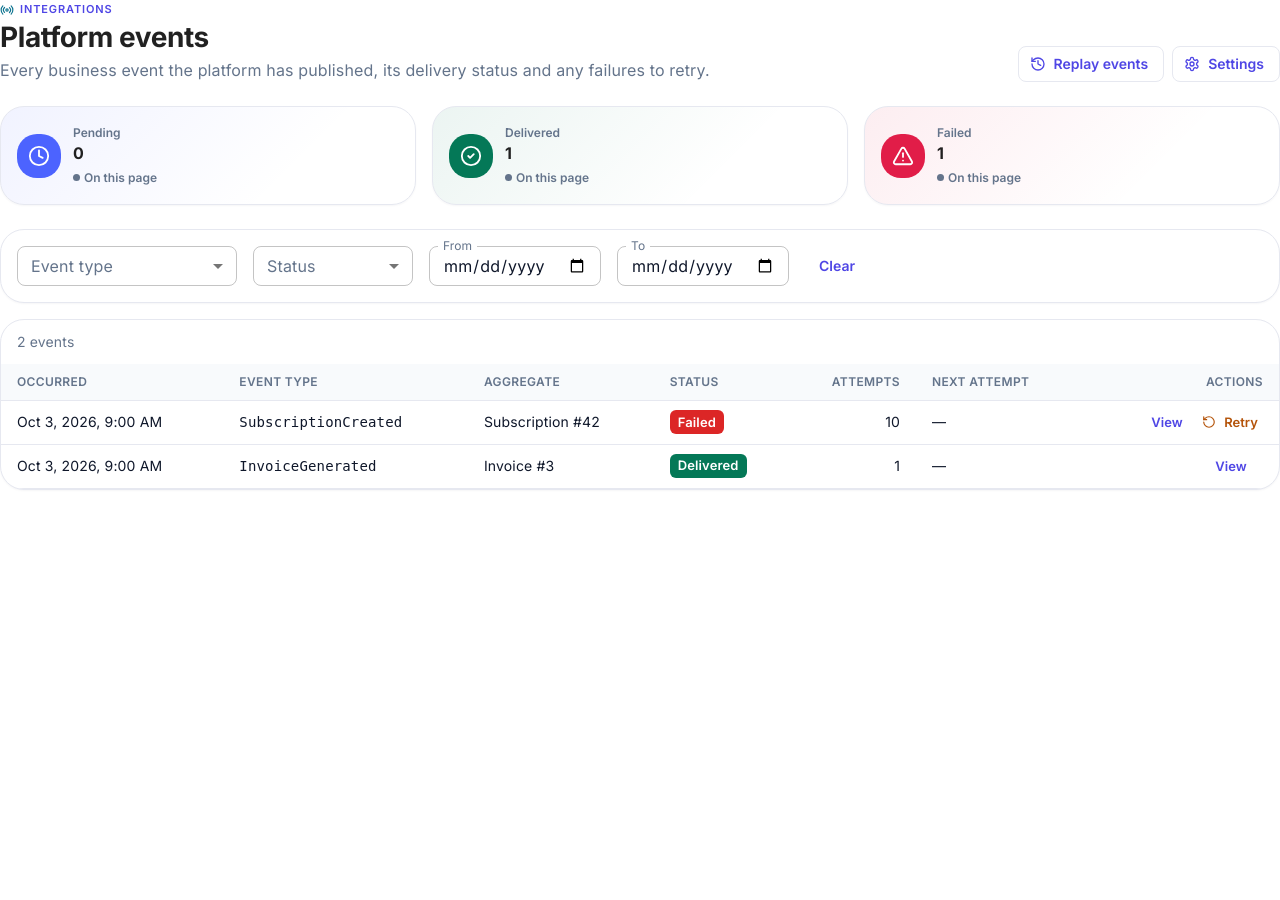
Test: AdminPlatformEventsPage › shows the payload and receipts of an event
Click the button with aria-label "View InvoiceGenerated event 8". click: (1231, 466)
box: [1199,451,1263,482]
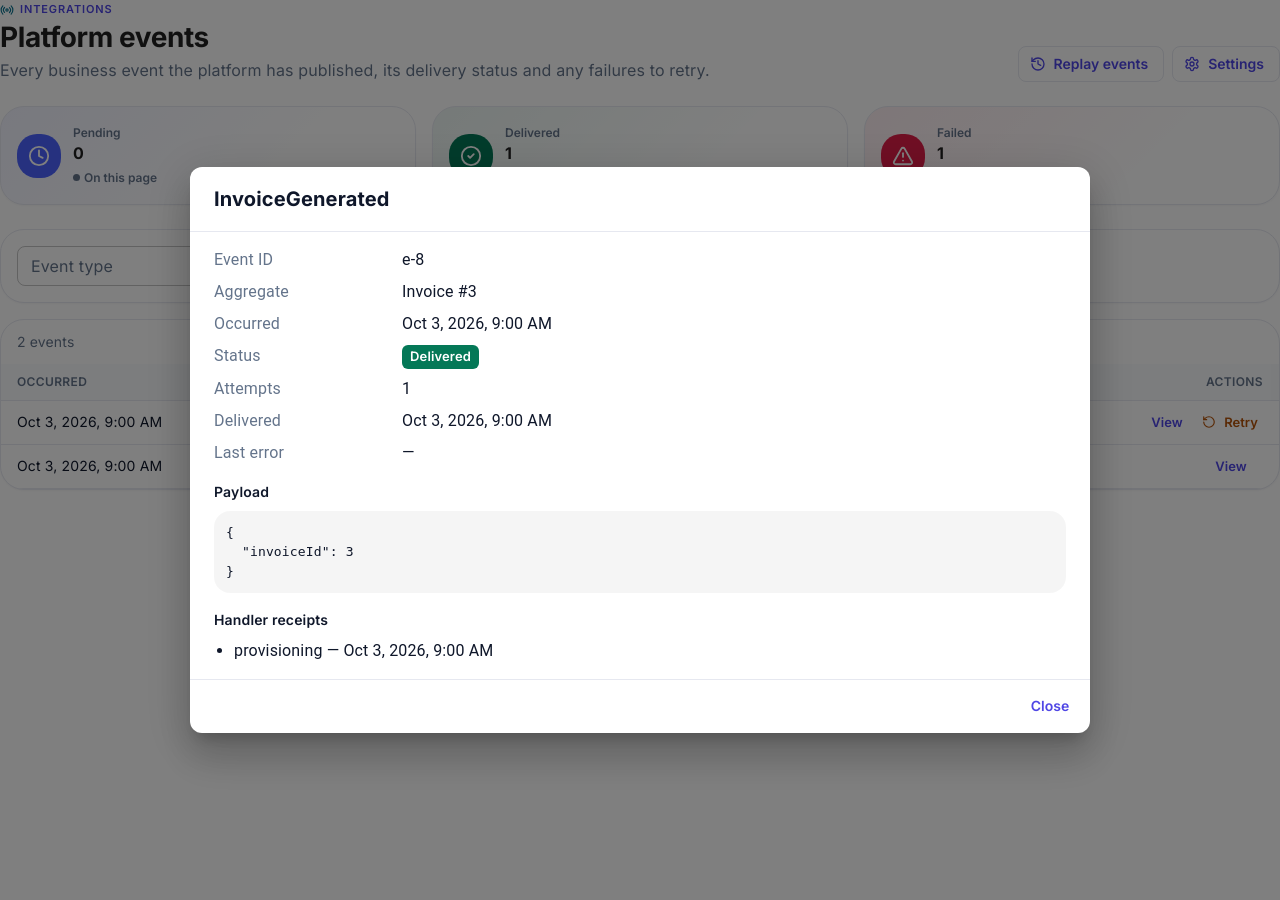
Now the dialog "InvoiceGenerated" is shown, box [190,167,1090,733]
Now the text "{ \"invoiceId\": 3 }" is shown, box [214,511,1066,593]
Now the list item "provisioning — Oct 3, 2026, 9:00 AM" is shown, box [234,641,493,660]
